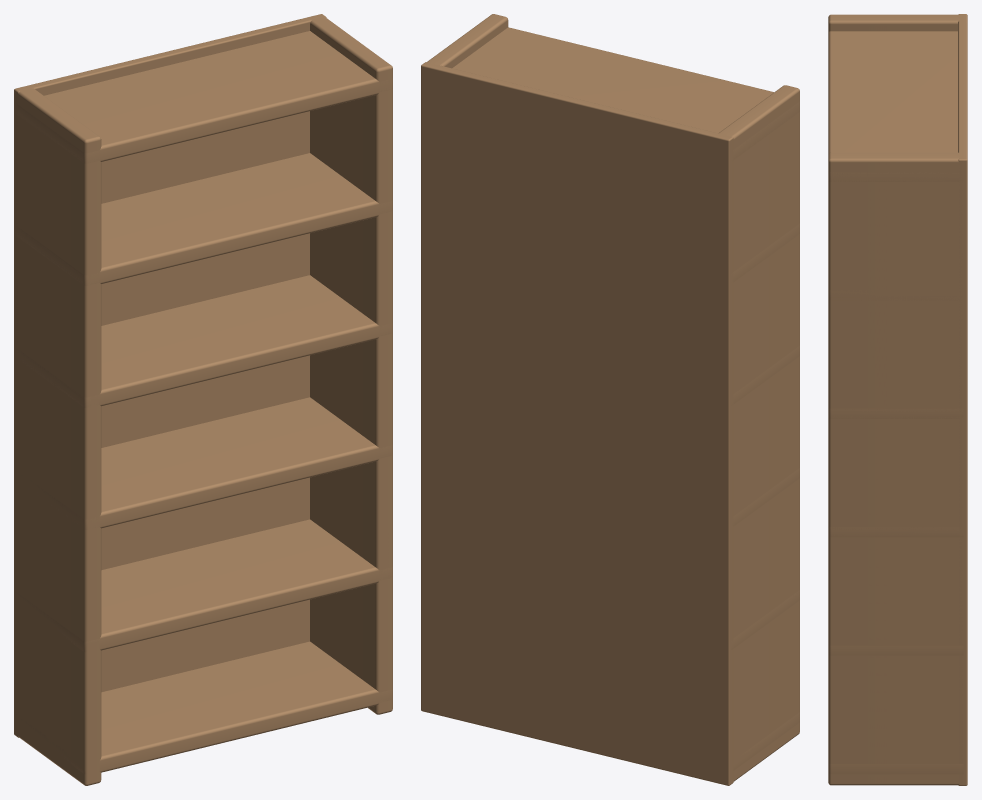
File: atelier-linen-cabinet.glb
3 renders of one model, left to right at view 1: azimuth 30°, elevation 25°; view 2: azimuth 150°, elevation 25°; view 3: azimuth 270°, elevation 25°, orthographic. The views are drawn at different scales.
Visible parts, largest first — view 1: legs.104; view 2: legs.104; view 3: legs.104.
Boxes of the visible parts, left/top/right/bottom form: legs.104: left=14, top=14, right=392, bottom=785; legs.104: left=421, top=14, right=799, bottom=785; legs.104: left=828, top=14, right=967, bottom=785.
Bounding box in the file's own units: 0.9001 × 1.8 × 0.3625.
